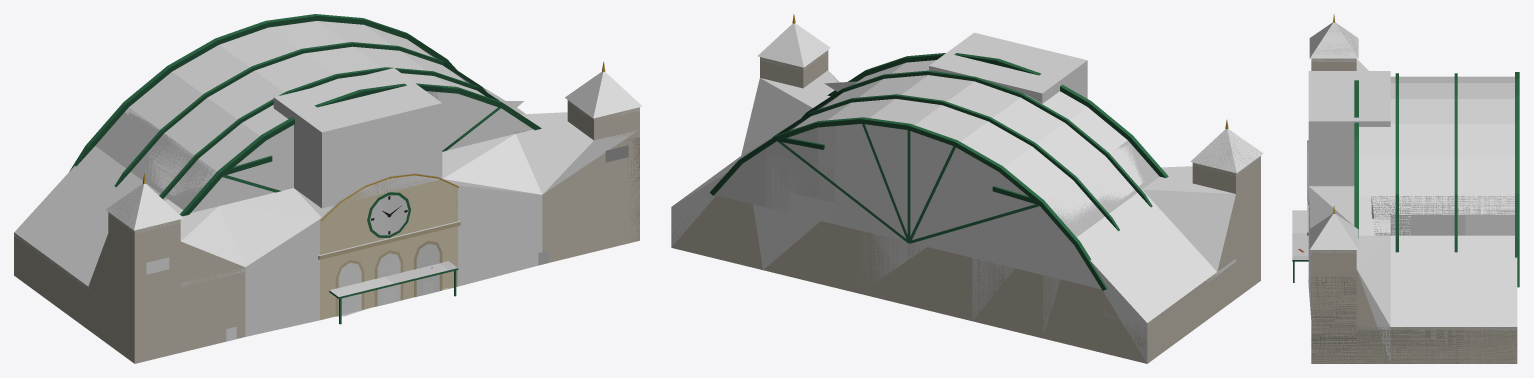
Rendered from lm_grand_station.glb.
3 views of the same model, side by side, from view 1: azimuth 30°, elevation 25°; view 2: azimuth 150°, elevation 25°; view 3: azimuth 270°, elevation 25° (orthographic). The views are drawn at different scales.
Parts seen in each view (by area): view 1: damaged, intact, chunk_00, chunk_12, chunk_04, chunk_03, chunk_01, chunk_05, chunk_02, chunk_17, chunk_10, chunk_16 (+4 smaller); view 2: damaged, intact, chunk_05, chunk_07, chunk_09, chunk_12, chunk_08, chunk_00, chunk_17, chunk_16, chunk_06, chunk_10 (+4 smaller); view 3: chunk_09, damaged, intact, chunk_04, chunk_12, chunk_18, chunk_17, chunk_14, chunk_10, chunk_03, chunk_13.
Boxes of the visible parts, <box> form: damaged: <box>14,34,639,363</box>; intact: <box>124,14,639,175</box>; chunk_00: <box>88,199,245,363</box>; chunk_12: <box>273,68,442,208</box>; chunk_04: <box>516,112,639,262</box>; chunk_03: <box>442,134,542,290</box>; chunk_01: <box>219,188,321,336</box>; chunk_05: <box>14,146,167,329</box>; chunk_02: <box>294,179,442,319</box>; chunk_17: <box>220,21,383,92</box>; chunk_10: <box>105,164,213,252</box>; chunk_16: <box>126,90,243,163</box>; damaged: <box>671,53,1262,363</box>; intact: <box>760,14,1132,295</box>; chunk_05: <box>1043,190,1216,363</box>; chunk_07: <box>859,231,972,320</box>; chunk_09: <box>671,133,777,269</box>; chunk_12: <box>929,32,1087,103</box>; chunk_08: <box>763,207,858,290</box>; chunk_00: <box>1142,166,1260,272</box>; chunk_17: <box>867,75,1020,142</box>; chunk_16: <box>990,120,1112,203</box>; chunk_06: <box>972,258,1042,337</box>; chunk_10: <box>1113,129,1263,193</box>; chunk_09: <box>1390,235,1517,363</box>; damaged: <box>1292,14,1519,363</box>; intact: <box>1310,72,1519,297</box>; chunk_04: <box>1311,235,1390,363</box>; chunk_12: <box>1308,71,1390,185</box>; chunk_18: <box>1390,127,1514,214</box>; chunk_17: <box>1390,83,1514,126</box>; chunk_14: <box>1309,213,1390,268</box>; chunk_10: <box>1309,22,1358,70</box>; chunk_03: <box>1308,186,1354,318</box>; chunk_13: <box>1359,127,1390,214</box>.
Size of the model in its own units: 111 by 40 by 50.2.
